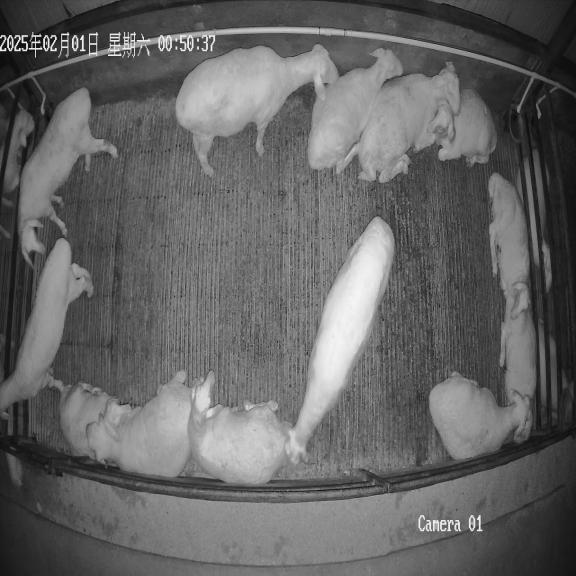lying: (358, 62, 460, 182), (307, 48, 403, 174), (188, 372, 290, 484), (87, 370, 191, 477), (429, 372, 527, 460), (54, 380, 134, 458), (488, 173, 530, 315), (500, 294, 536, 443), (430, 89, 497, 166)
stand: (284, 216, 394, 464), (175, 44, 339, 176), (17, 88, 118, 266), (0, 238, 93, 417)
